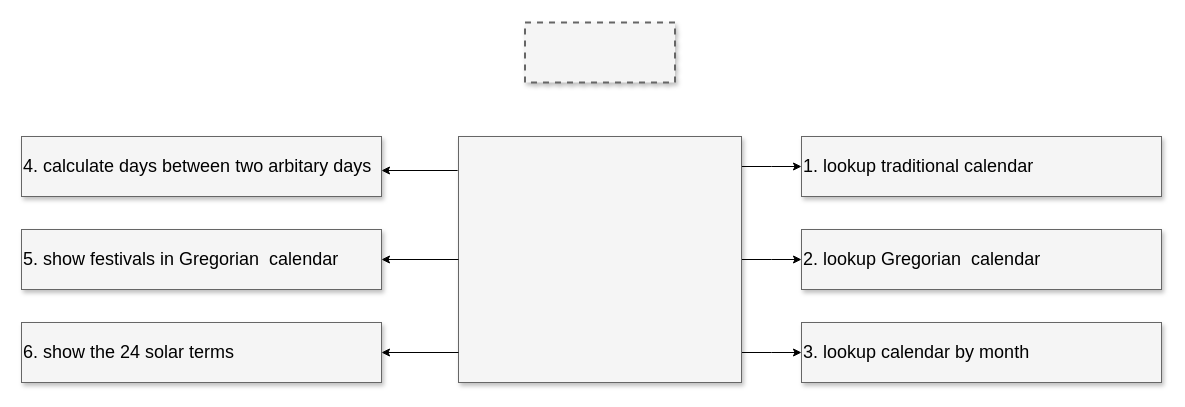
Some shapes in this 1185 by 407 pixel diagram are drawn without their labels. The centre of each missing label's shape, as x and y in pixels:
"main: show title&current time offer function choices receive keyboard input" belongs at [601,261].
"Software Control" belongs at [601,53].
